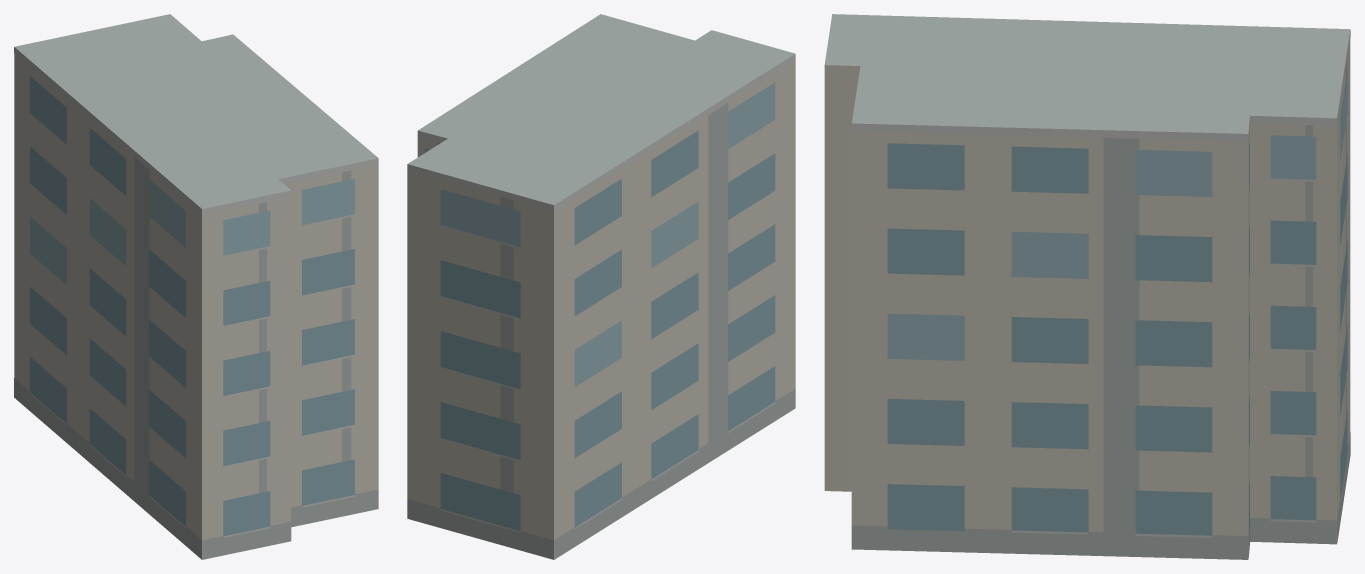
The model's file is survey-upis-33043943.glb.
The picture shows the model from 3 angles, left to right: view 1: azimuth 30°, elevation 25°; view 2: azimuth 150°, elevation 25°; view 3: azimuth 270°, elevation 25°; orthographic projection. The views are drawn at different scales.
Visible parts, largest first — view 1: survey-upis-33043943.tmp; view 2: survey-upis-33043943.tmp; view 3: survey-upis-33043943.tmp.
Boxes of the visible parts, <box> form: survey-upis-33043943.tmp: <box>14,14,378,559</box>; survey-upis-33043943.tmp: <box>407,14,795,559</box>; survey-upis-33043943.tmp: <box>824,14,1350,559</box>.
Bounding box in the file's own units: 7.98 × 13.2 × 14.78.
